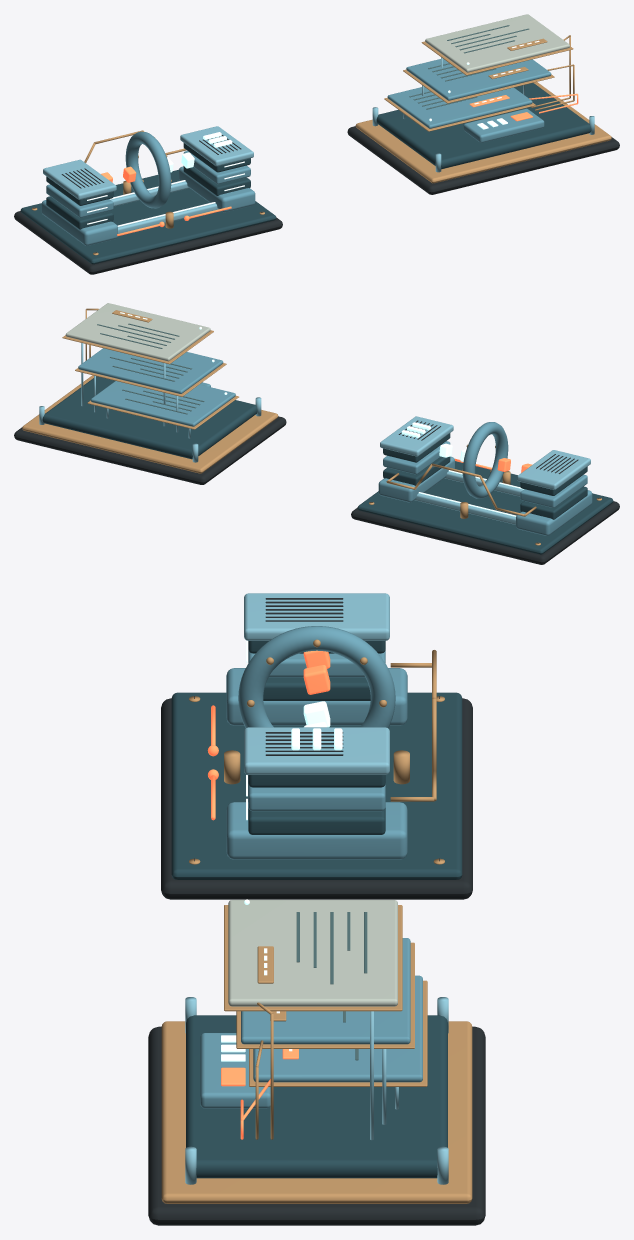
The model's file is systems-as-objects.glb.
The picture shows the model from 3 angles, top to bottom: view 1: azimuth 30°, elevation 25°; view 2: azimuth 150°, elevation 25°; view 3: azimuth 270°, elevation 25°; orthographic projection. The views are drawn at different scales.
Visible parts, largest first — view 1: W_Base_Titanium, E_Review_Plane, E_Source_3, E_Base_Bronze, E_Base_Ceramic, W_Base_Ceramic, E_Source_1, E_Source_2, W_Idempotency_Gate, W_Sender_Top, W_Store_Top, E_Human_Review (+13 smaller); view 2: W_Base_Titanium, E_Review_Plane, E_Source_3, E_Base_Bronze, E_Source_2, E_Source_1, E_Base_Ceramic, W_Base_Ceramic, W_Idempotency_Gate, W_Sender_Top, W_Store_Top, W_Sender_Foot (+12 smaller); view 3: W_Base_Titanium, E_Review_Plane, E_Source_3, E_Base_Bronze, E_Base_Ceramic, W_Base_Ceramic, W_Idempotency_Gate, W_Store_Top, E_Source_2, W_Store_Foot, E_Source_1, W_Sender_Top (+10 smaller).
Part boxes in pixels (x1=…): W_Base_Titanium: x1=20, y1=169, x2=276, y2=264; E_Review_Plane: x1=376, y1=83, x2=591, y2=169; E_Source_3: x1=425, y1=14, x2=569, y2=72; E_Base_Bronze: x1=355, y1=82, x2=611, y2=183; E_Base_Ceramic: x1=347, y1=126, x2=619, y2=194; W_Base_Ceramic: x1=14, y1=211, x2=282, y2=274; E_Source_1: x1=387, y1=87, x2=532, y2=128; E_Source_2: x1=406, y1=59, x2=551, y2=100; W_Idempotency_Gate: x1=125, y1=131, x2=171, y2=208; W_Sender_Top: x1=43, y1=159, x2=116, y2=199; W_Store_Top: x1=180, y1=126, x2=253, y2=166; E_Human_Review: x1=463, y1=108, x2=544, y2=142; W_Base_Titanium: x1=357, y1=461, x2=613, y2=554; E_Review_Plane: x1=42, y1=376, x2=257, y2=459; E_Source_3: x1=65, y1=303, x2=210, y2=361; E_Base_Bronze: x1=22, y1=375, x2=278, y2=473; E_Source_2: x1=78, y1=348, x2=223, y2=393; E_Source_1: x1=91, y1=381, x2=235, y2=426; E_Base_Ceramic: x1=14, y1=416, x2=286, y2=484; W_Base_Ceramic: x1=351, y1=501, x2=619, y2=564; W_Idempotency_Gate: x1=462, y1=422, x2=508, y2=498; W_Sender_Top: x1=517, y1=450, x2=590, y2=489; W_Store_Top: x1=380, y1=416, x2=453, y2=456; W_Sender_Foot: x1=516, y1=490, x2=592, y2=535; W_Base_Titanium: x1=171, y1=692, x2=462, y2=879; E_Review_Plane: x1=186, y1=1015, x2=447, y2=1178; E_Source_3: x1=228, y1=900, x2=397, y2=1006; E_Base_Bronze: x1=161, y1=1021, x2=472, y2=1203; E_Base_Ceramic: x1=148, y1=1026, x2=485, y2=1225; W_Base_Ceramic: x1=161, y1=698, x2=472, y2=899; W_Idempotency_Gate: x1=238, y1=626, x2=395, y2=727; W_Store_Top: x1=244, y1=727, x2=389, y2=774; E_Source_2: x1=241, y1=938, x2=410, y2=1044; W_Store_Foot: x1=226, y1=802, x2=407, y2=859; E_Source_1: x1=253, y1=975, x2=422, y2=1082; W_Sender_Top: x1=244, y1=593, x2=389, y2=640.
Size of the model in its own units: 9.77 by 1.8 by 2.7.
